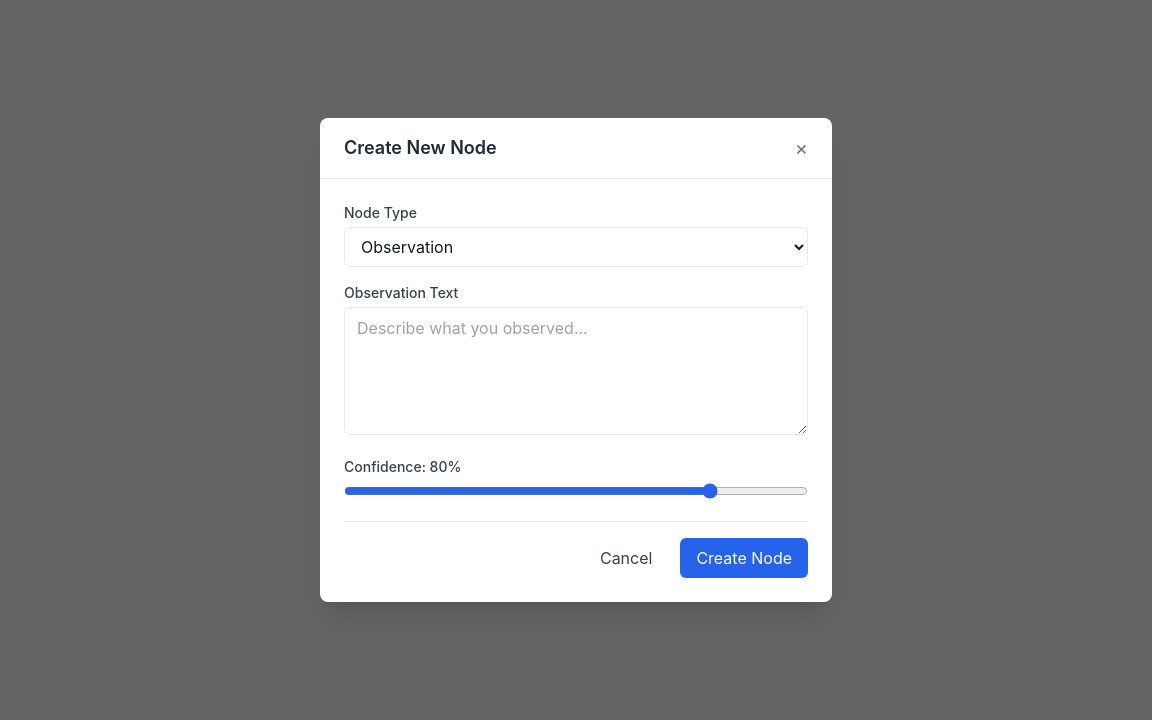
Test: CreateNodeModal › switches to source form when source is selected
Step 1. Select "Source" in the dropdown → (576, 247), box [344,227,808,267]
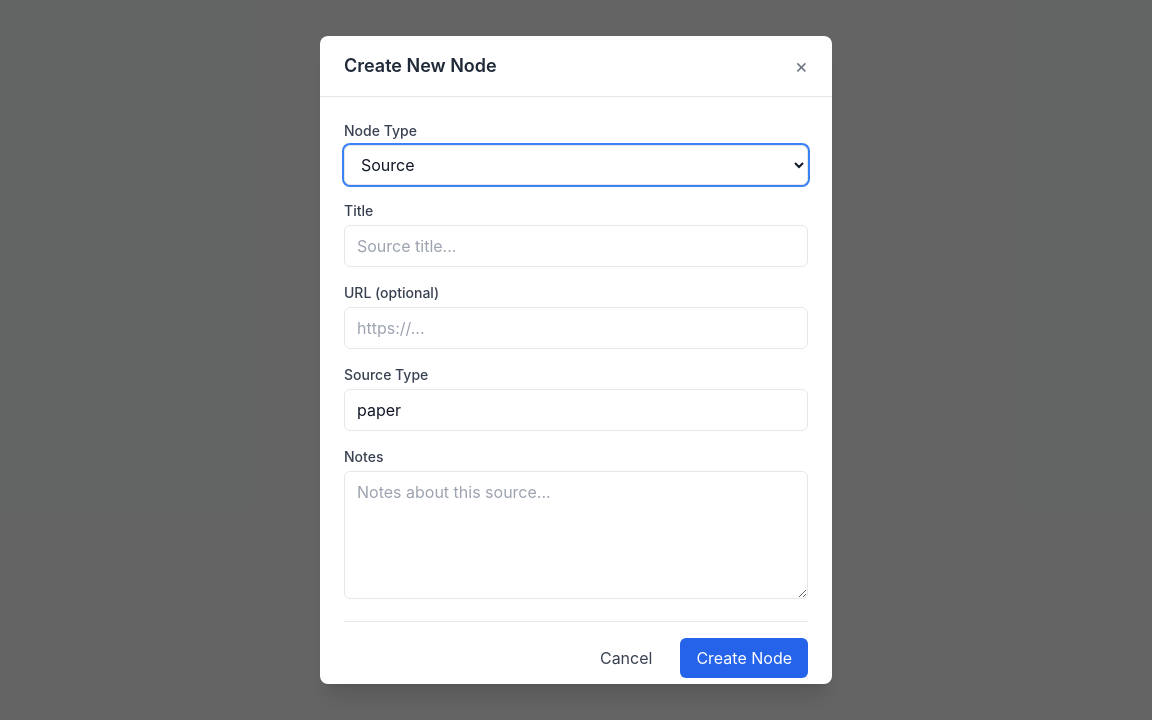
Expected: the field with placeholder "Source title..." is shown, [344,225,808,267]
Expected: the field with placeholder "https://..." is shown, [344,307,808,349]
